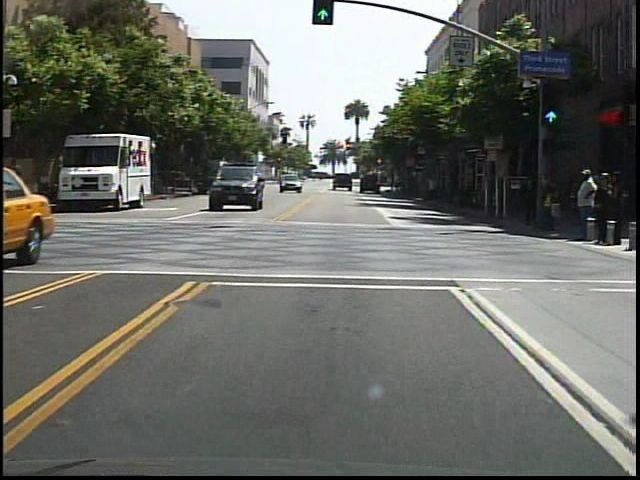person: (567, 166, 598, 246), (519, 162, 539, 230)
